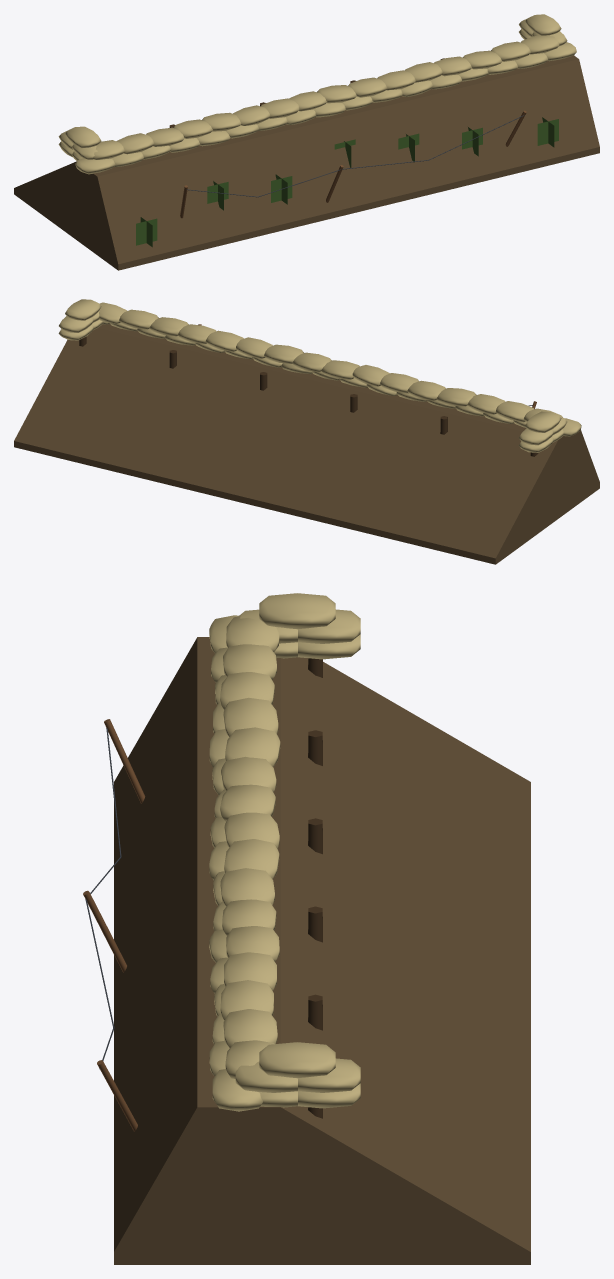
Rendered from defensive-perimeter-berm-section.glb.
The picture shows the model from 3 angles, top to bottom: view 1: azimuth 30°, elevation 25°; view 2: azimuth 150°, elevation 25°; view 3: azimuth 270°, elevation 25°; orthographic projection. The views are drawn at different scales.
Parts seen in each view (by area): view 1: Mesh_BermEarth, Mesh_Sandbag_LW_3_0, Mesh_Sandbag_RW_3_0, Mesh_Sandbag_L2_1, Mesh_Sandbag_L2_6, Mesh_Sandbag_L2_9, Mesh_Sandbag_L2_14, Mesh_Grass_6, Mesh_Sandbag_L2_10, Mesh_Sandbag_L2_7, Mesh_Grass_1, Mesh_Sandbag_L2_2 (+17 smaller); view 2: Mesh_BermEarth, Mesh_Sandbag_L2_1, Mesh_Sandbag_LW_3_0, Mesh_Sandbag_RW_3_0, Mesh_Sandbag_L2_6, Mesh_Sandbag_L2_12, Mesh_Sandbag_L2_4, Mesh_Sandbag_L2_7, Mesh_Sandbag_L2_8, Mesh_Sandbag_L2_10, Mesh_Sandbag_L2_5, Mesh_Sandbag_L2_14 (+8 smaller); view 3: Mesh_BermEarth, Mesh_Sandbag_LW_3_0, Mesh_Sandbag_RW_3_0, Mesh_Sandbag_L2_1, Mesh_Sandbag_L2_6, Mesh_Sandbag_L2_12, Mesh_Sandbag_L2_11, Mesh_Sandbag_L2_7, Mesh_Sandbag_L2_2, Mesh_Sandbag_L2_9, Mesh_Sandbag_L2_3, Mesh_Sandbag_L2_14 (+13 smaller).
Part boxes in pixels (left/top/right/bottom): Mesh_BermEarth: left=14, top=55, right=599, bottom=270; Mesh_Sandbag_LW_3_0: left=525, top=14, right=561, bottom=35; Mesh_Sandbag_RW_3_0: left=65, top=126, right=101, bottom=147; Mesh_Sandbag_L2_1: left=491, top=41, right=530, bottom=61; Mesh_Sandbag_L2_6: left=348, top=77, right=387, bottom=97; Mesh_Sandbag_L2_9: left=261, top=98, right=299, bottom=118; Mesh_Sandbag_L2_14: left=116, top=133, right=154, bottom=154; Mesh_Grass_6: left=136, top=217, right=157, bottom=247; Mesh_Sandbag_L2_10: left=233, top=105, right=270, bottom=125; Mesh_Sandbag_L2_7: left=317, top=85, right=356, bottom=103; Mesh_Grass_1: left=537, top=117, right=558, bottom=147; Mesh_Sandbag_L2_2: left=463, top=50, right=501, bottom=69; Mesh_BermEarth: left=14, top=324, right=599, bottom=564; Mesh_Sandbag_L2_1: left=119, top=309, right=158, bottom=329; Mesh_Sandbag_LW_3_0: left=65, top=299, right=101, bottom=320; Mesh_Sandbag_RW_3_0: left=525, top=411, right=561, bottom=432; Mesh_Sandbag_L2_6: left=264, top=344, right=303, bottom=363; Mesh_Sandbag_L2_12: left=437, top=388, right=476, bottom=406; Mesh_Sandbag_L2_4: left=205, top=330, right=243, bottom=351; Mesh_Sandbag_L2_7: left=292, top=352, right=331, bottom=371; Mesh_Sandbag_L2_8: left=322, top=360, right=359, bottom=379; Mesh_Sandbag_L2_10: left=380, top=373, right=418, bottom=393; Mesh_Sandbag_L2_5: left=236, top=337, right=272, bottom=358; Mesh_Sandbag_L2_14: left=496, top=401, right=533, bottom=422; Mesh_BermEarth: left=114, top=637, right=530, bottom=1264; Mesh_Sandbag_LW_3_0: left=259, top=1042, right=335, bottom=1078; Mesh_Sandbag_RW_3_0: left=259, top=593, right=335, bottom=629; Mesh_Sandbag_L2_1: left=223, top=1009, right=277, bottom=1047; Mesh_Sandbag_L2_6: left=220, top=868, right=274, bottom=906; Mesh_Sandbag_L2_12: left=223, top=697, right=278, bottom=736; Mesh_Sandbag_L2_11: left=225, top=727, right=280, bottom=766; Mesh_Sandbag_L2_7: left=224, top=839, right=279, bottom=879; Mesh_Sandbag_L2_2: left=220, top=980, right=273, bottom=1019; Mesh_Sandbag_L2_9: left=220, top=784, right=275, bottom=821; Mesh_Sandbag_L2_3: left=224, top=952, right=276, bottom=990; Mesh_Sandbag_L2_14: left=223, top=644, right=276, bottom=679.
Size of the model in its own units: 8.22 by 1.62 by 3.22.
Materials: 1 (1 with a texture image).
